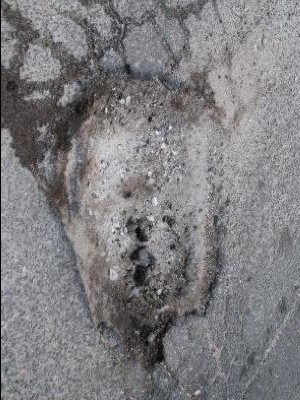pothole: (44, 60, 228, 369)
